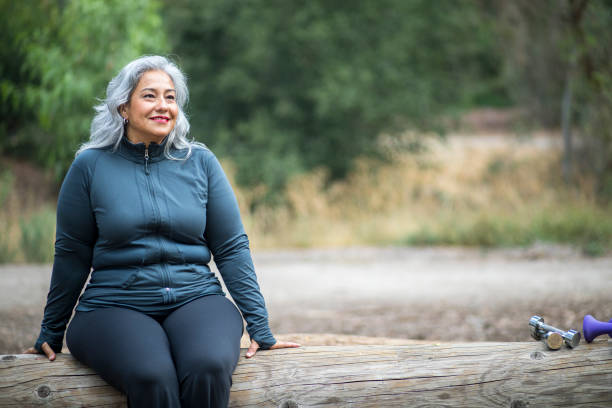without mask: (100, 66, 190, 139)
